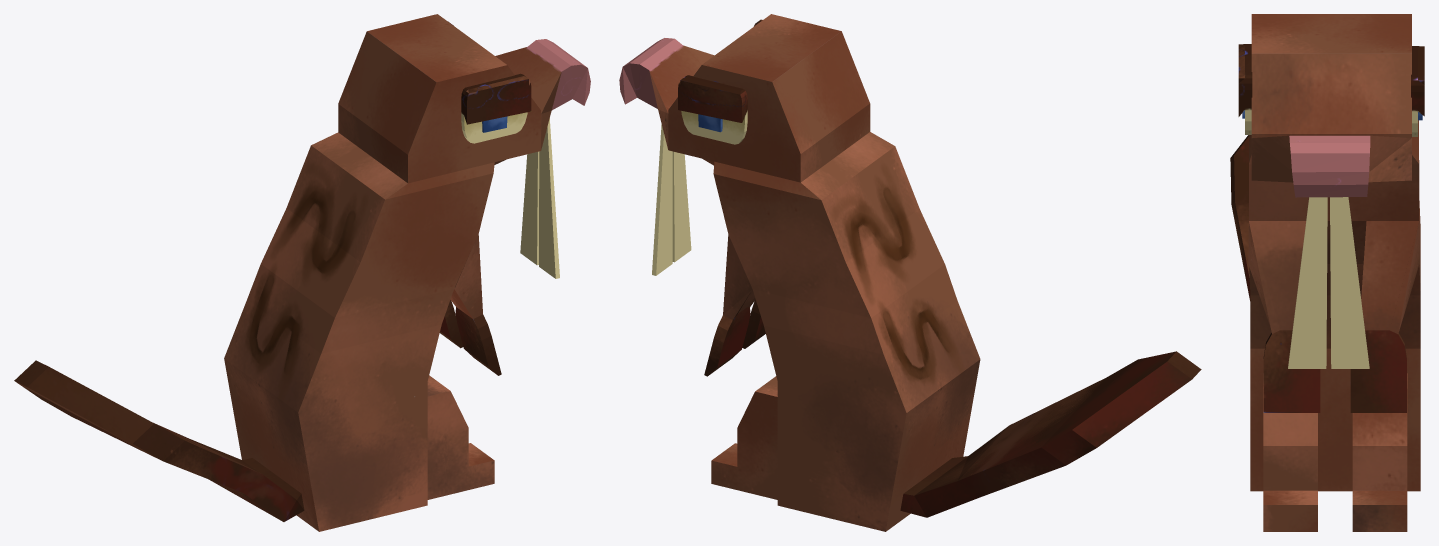
The model's file is beaverThree.glb.
The picture shows the model from 3 angles, left to right: view 1: azimuth 30°, elevation 25°; view 2: azimuth 150°, elevation 25°; view 3: azimuth 270°, elevation 25°; orthographic projection. The views are drawn at different scales.
Visible parts, largest first — view 1: Cube; view 2: Cube; view 3: Cube.
Boxes of the visible parts, x1=… form: Cube: x1=14, y1=14, x2=590, y2=531; Cube: x1=619, y1=14, x2=1201, y2=531; Cube: x1=1230, y1=14, x2=1424, y2=531.
Size of the model in its own units: 8.71 by 6.26 by 2.28.
Materials: 1 (1 with a texture image).
